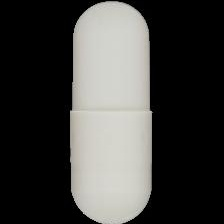69189-0194: (0, 0, 224, 224)
